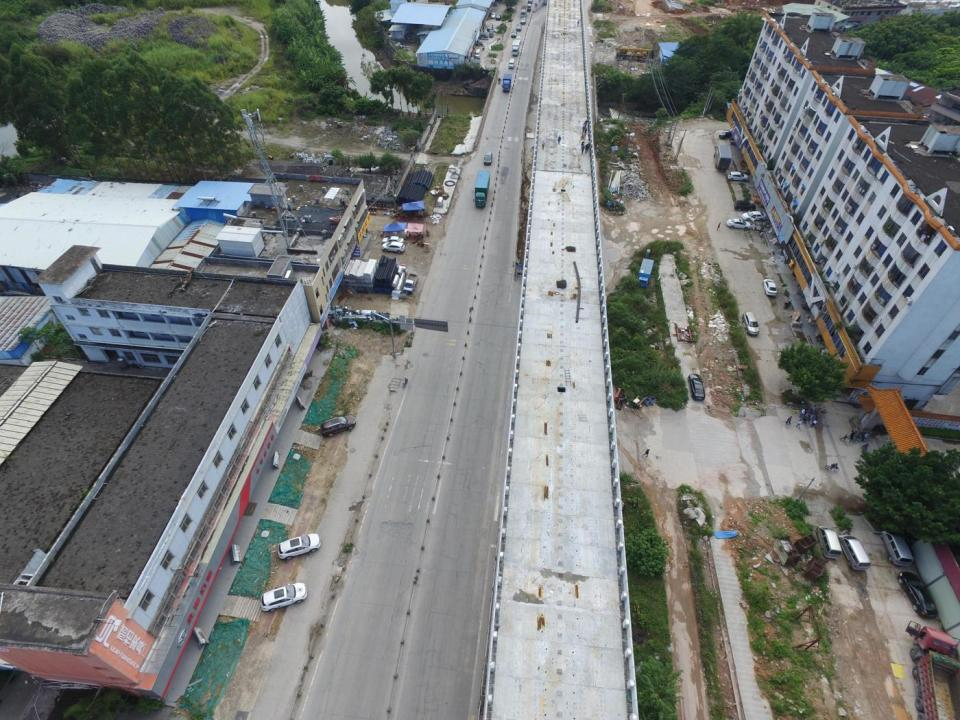car: (898, 572, 940, 617), (259, 585, 308, 615), (278, 532, 321, 561), (321, 415, 355, 438), (687, 374, 706, 401), (742, 312, 758, 336), (741, 211, 766, 221), (734, 200, 756, 211), (763, 279, 777, 296), (728, 171, 749, 182), (727, 219, 750, 229), (382, 237, 406, 246), (382, 243, 403, 252), (483, 152, 492, 166), (720, 131, 732, 138), (487, 23, 494, 31), (510, 30, 517, 38), (515, 35, 521, 44), (489, 29, 494, 37), (490, 12, 496, 18), (520, 17, 525, 24), (516, 24, 521, 31), (496, 15, 501, 20), (526, 0, 532, 3)
truck: (906, 621, 960, 716), (473, 171, 490, 208), (638, 257, 654, 289), (714, 145, 731, 170), (403, 273, 417, 293), (502, 74, 512, 93), (512, 41, 519, 56), (520, 5, 526, 18)
van: (881, 533, 914, 568), (816, 522, 841, 561), (840, 536, 867, 571), (509, 58, 515, 69), (474, 49, 480, 59), (526, 4, 530, 12)
